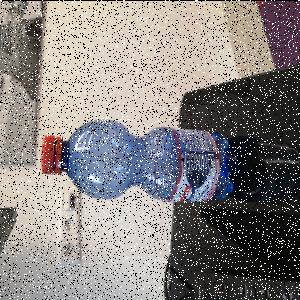Plastic-bottle: (42, 118, 238, 205)
